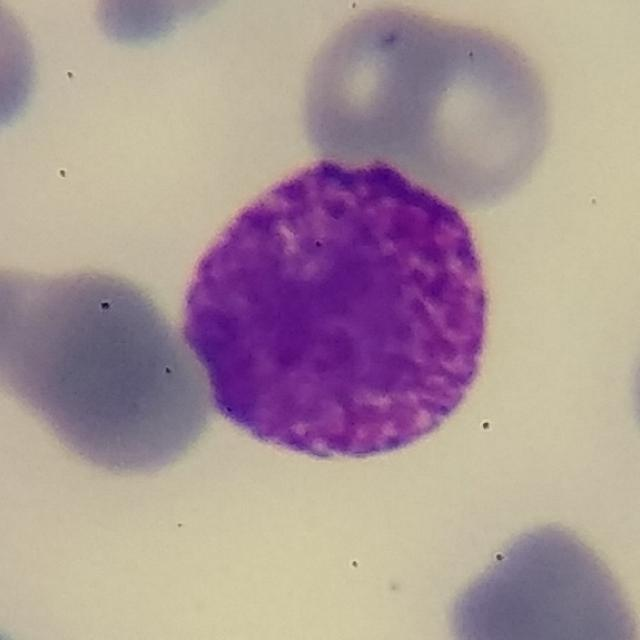Basophil: (158, 143, 517, 480)
RBC: (15, 261, 226, 484), (394, 22, 562, 206), (292, 0, 458, 163), (436, 514, 640, 640), (0, 255, 85, 409), (83, 0, 250, 51), (0, 0, 47, 156), (621, 303, 640, 481)
